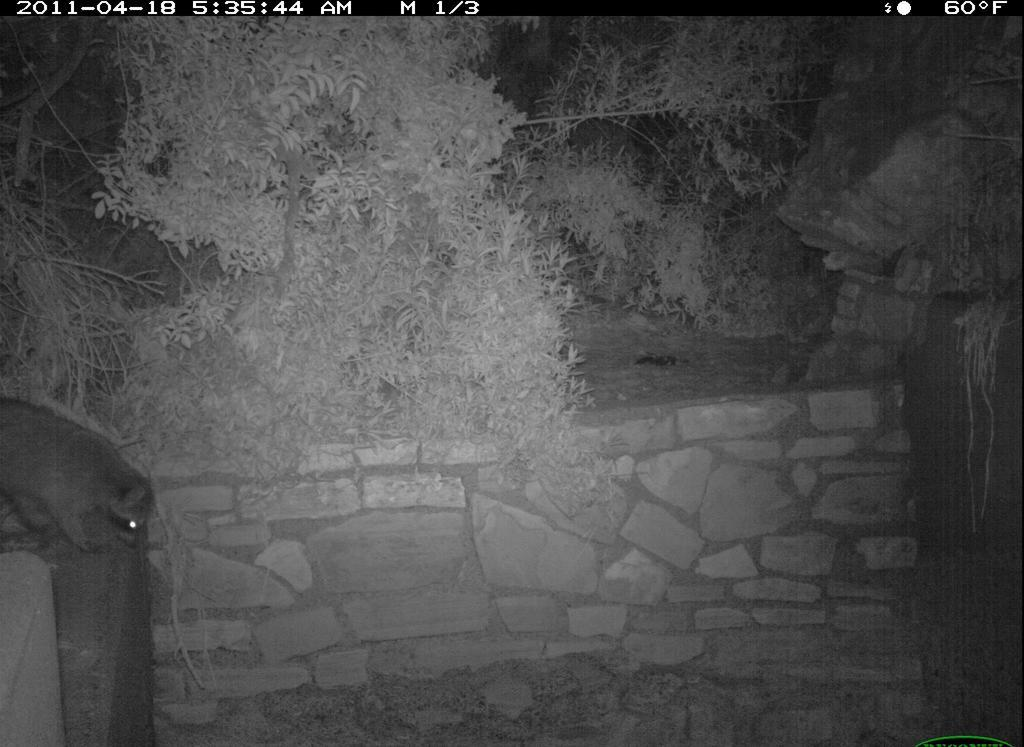raccoon: (2, 392, 161, 555)
